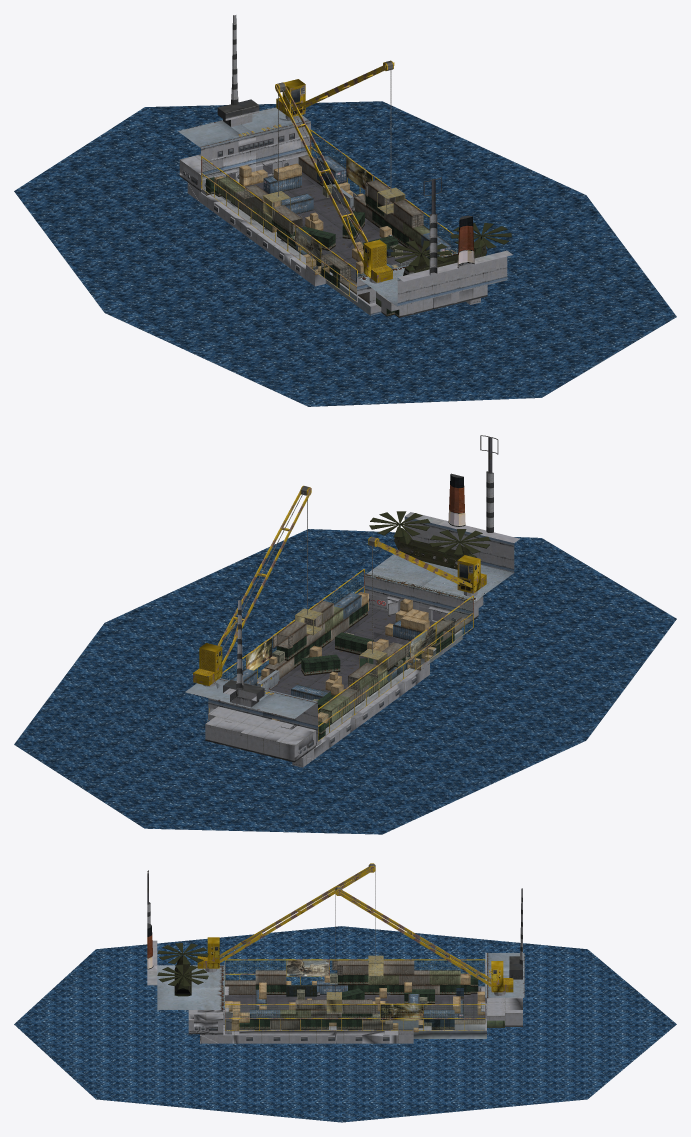
File: ship2.glb
3 views of the same model, one above another, from view 1: azimuth 30°, elevation 25°; view 2: azimuth 150°, elevation 25°; view 3: azimuth 270°, elevation 25° (orthographic). The views are drawn at different scales.
Visible parts, largest first — view 1: model; view 2: model; view 3: model.
Boxes of the visible parts, <box> form: model: <box>14,15,676,406</box>; model: <box>14,435,676,834</box>; model: <box>14,863,676,1122</box>.
Bounding box in the file's own units: 4352 × 1581 × 6212.
48 materials, 48 textured.
